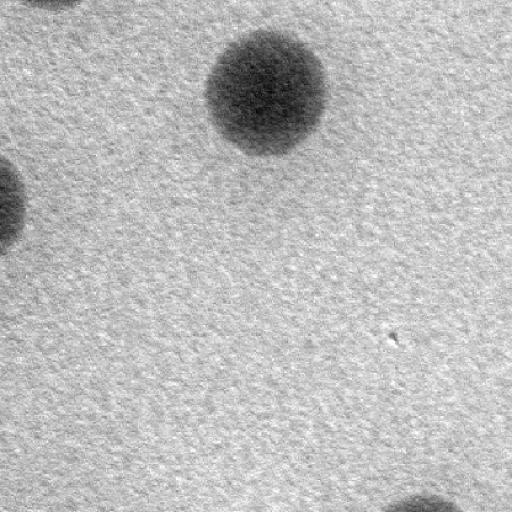Nanoparticles: (202, 28, 330, 156), (0, 154, 28, 253), (381, 491, 461, 511), (20, 0, 88, 12)
